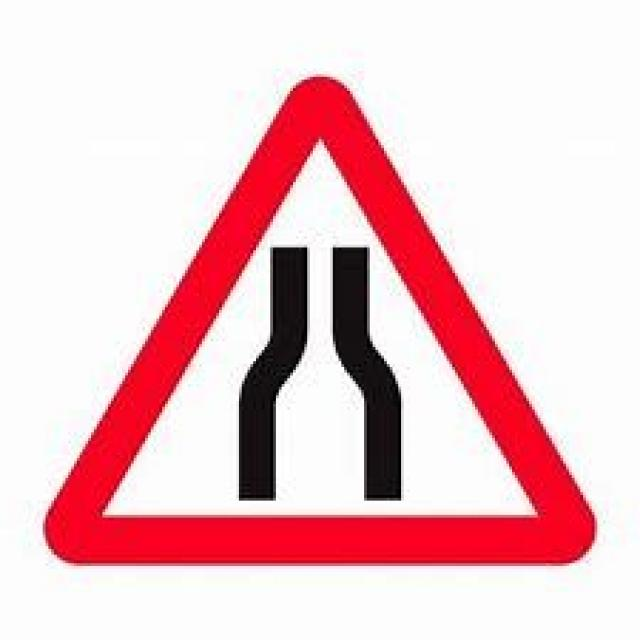NARROW_ROAD_AHEAD: (39, 74, 592, 563)
